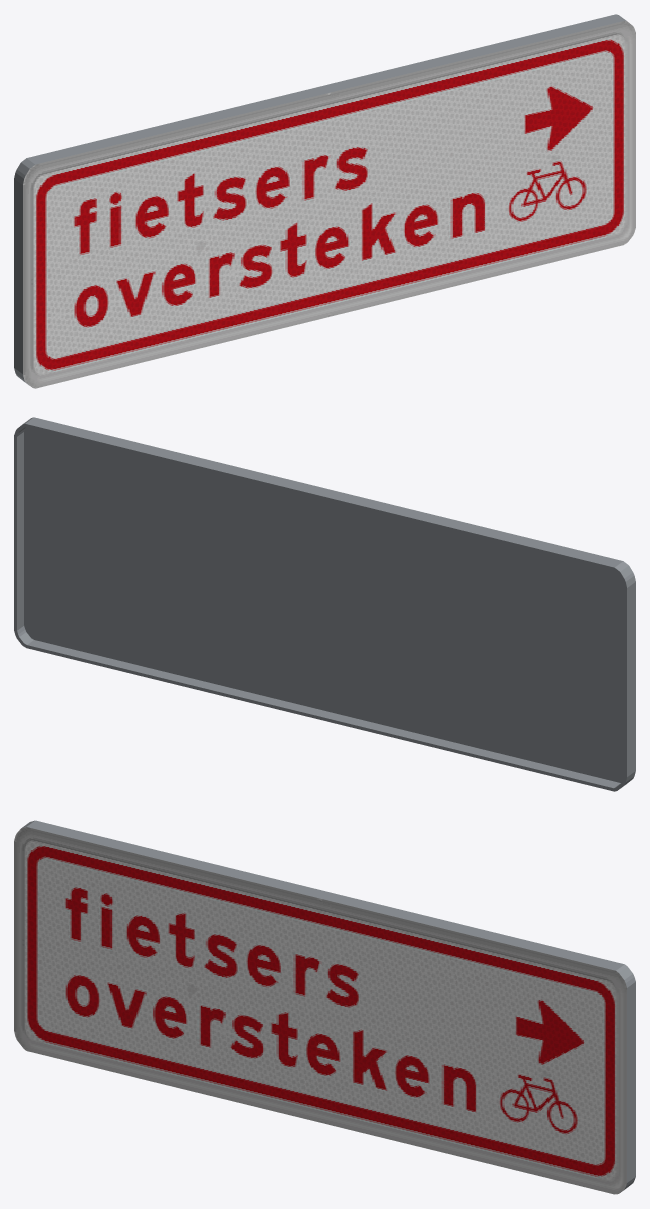
3 renders of one model, top to bottom at view 1: azimuth 30°, elevation 25°; view 2: azimuth 150°, elevation 25°; view 3: azimuth 330°, elevation 25°, orthographic.
Parts seen in each view (by area): view 1: cat_f0ddf75ad3e19437; view 2: cat_f0ddf75ad3e19437; view 3: cat_f0ddf75ad3e19437.
Part boxes in pixels (x1,y1,x2,y2): cat_f0ddf75ad3e19437: (14,14,635,388); cat_f0ddf75ad3e19437: (14,417,635,791); cat_f0ddf75ad3e19437: (14,820,635,1194).
Size of the model in its own units: 0.6 by 0.015 by 0.2095.
Materials: 2 (1 with a texture image).
